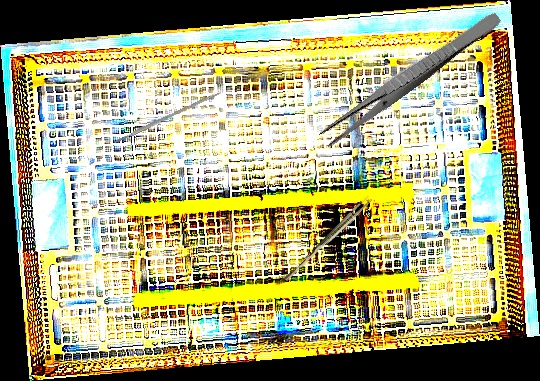Dressing Forceps: (316, 5, 504, 150)
Scalpel Handle: (111, 90, 222, 145)
Tissue Forceps: (282, 193, 374, 285)
